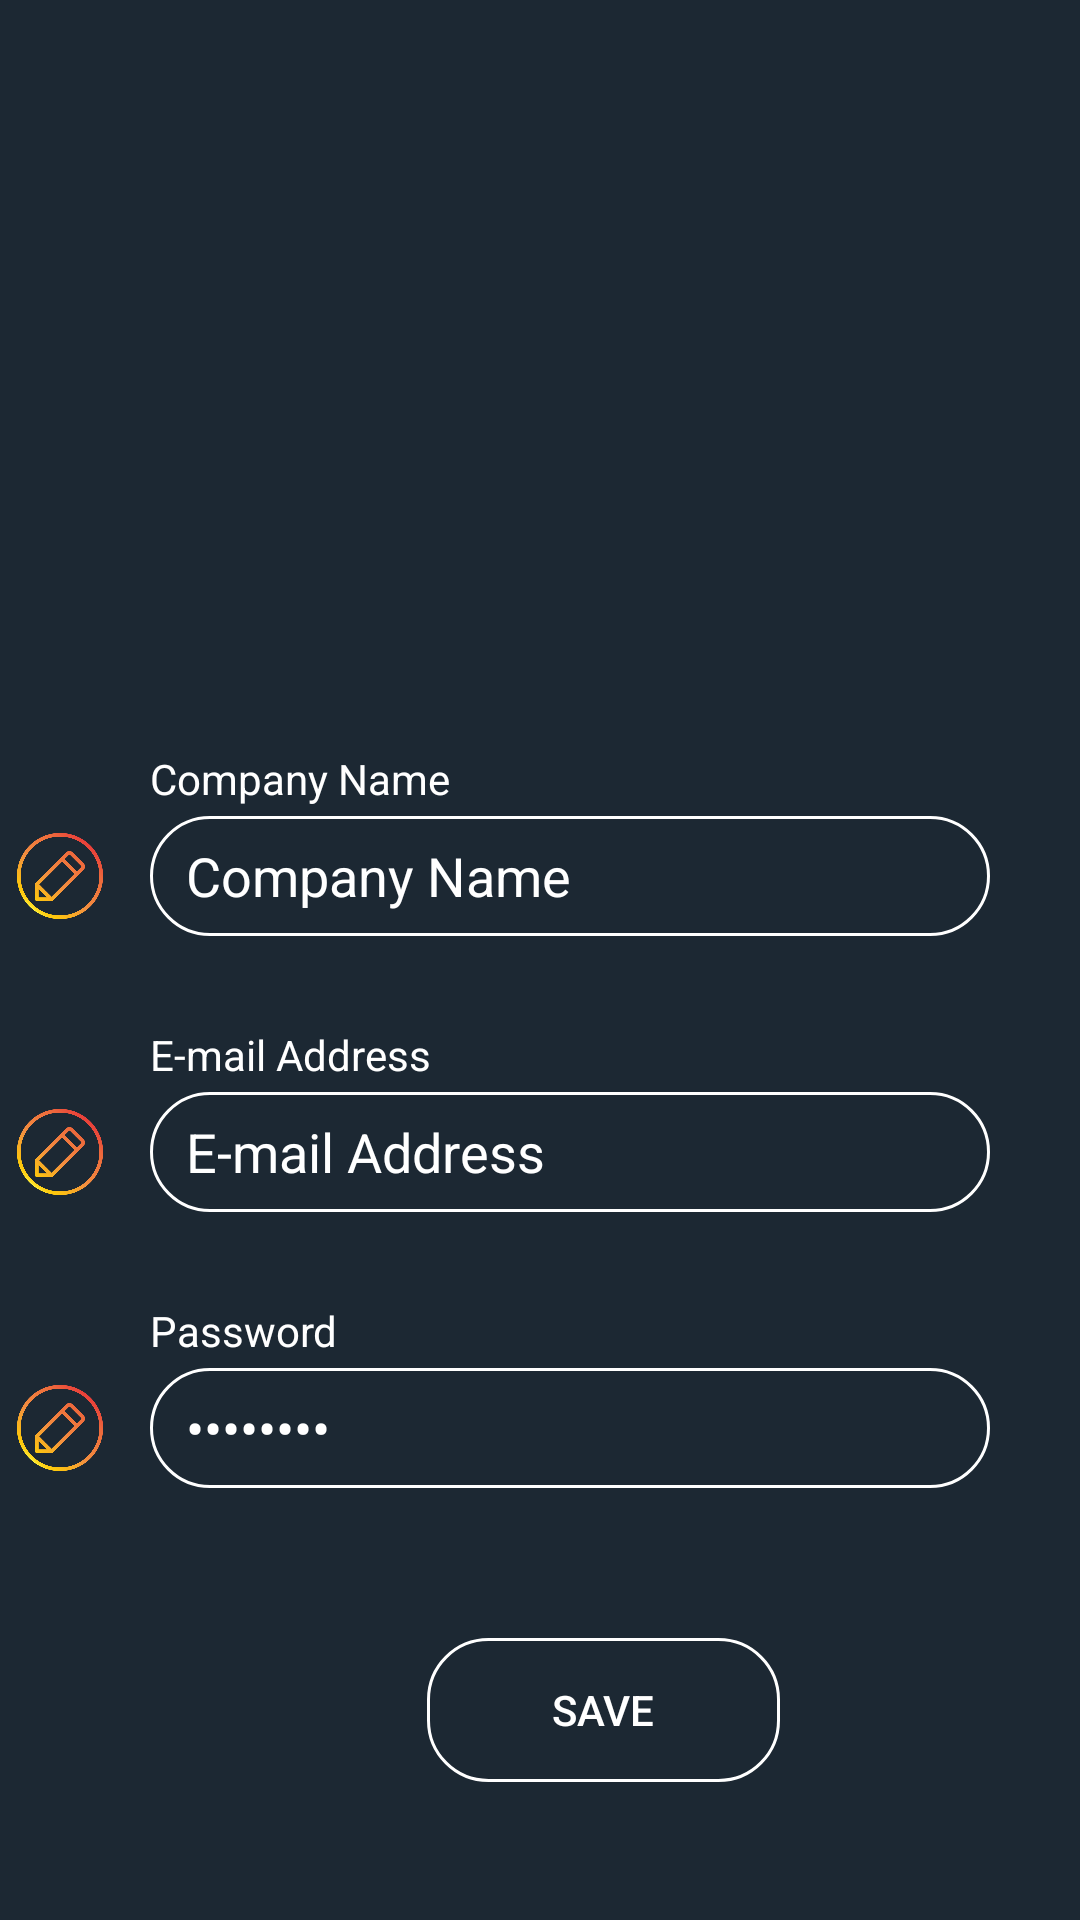

Named icons in this screenshot (1080*1920) and their bounding boxes, (x1, y1, x2, y2):
changepen: (17, 833, 103, 919), (17, 1109, 103, 1195), (17, 1385, 103, 1471)
